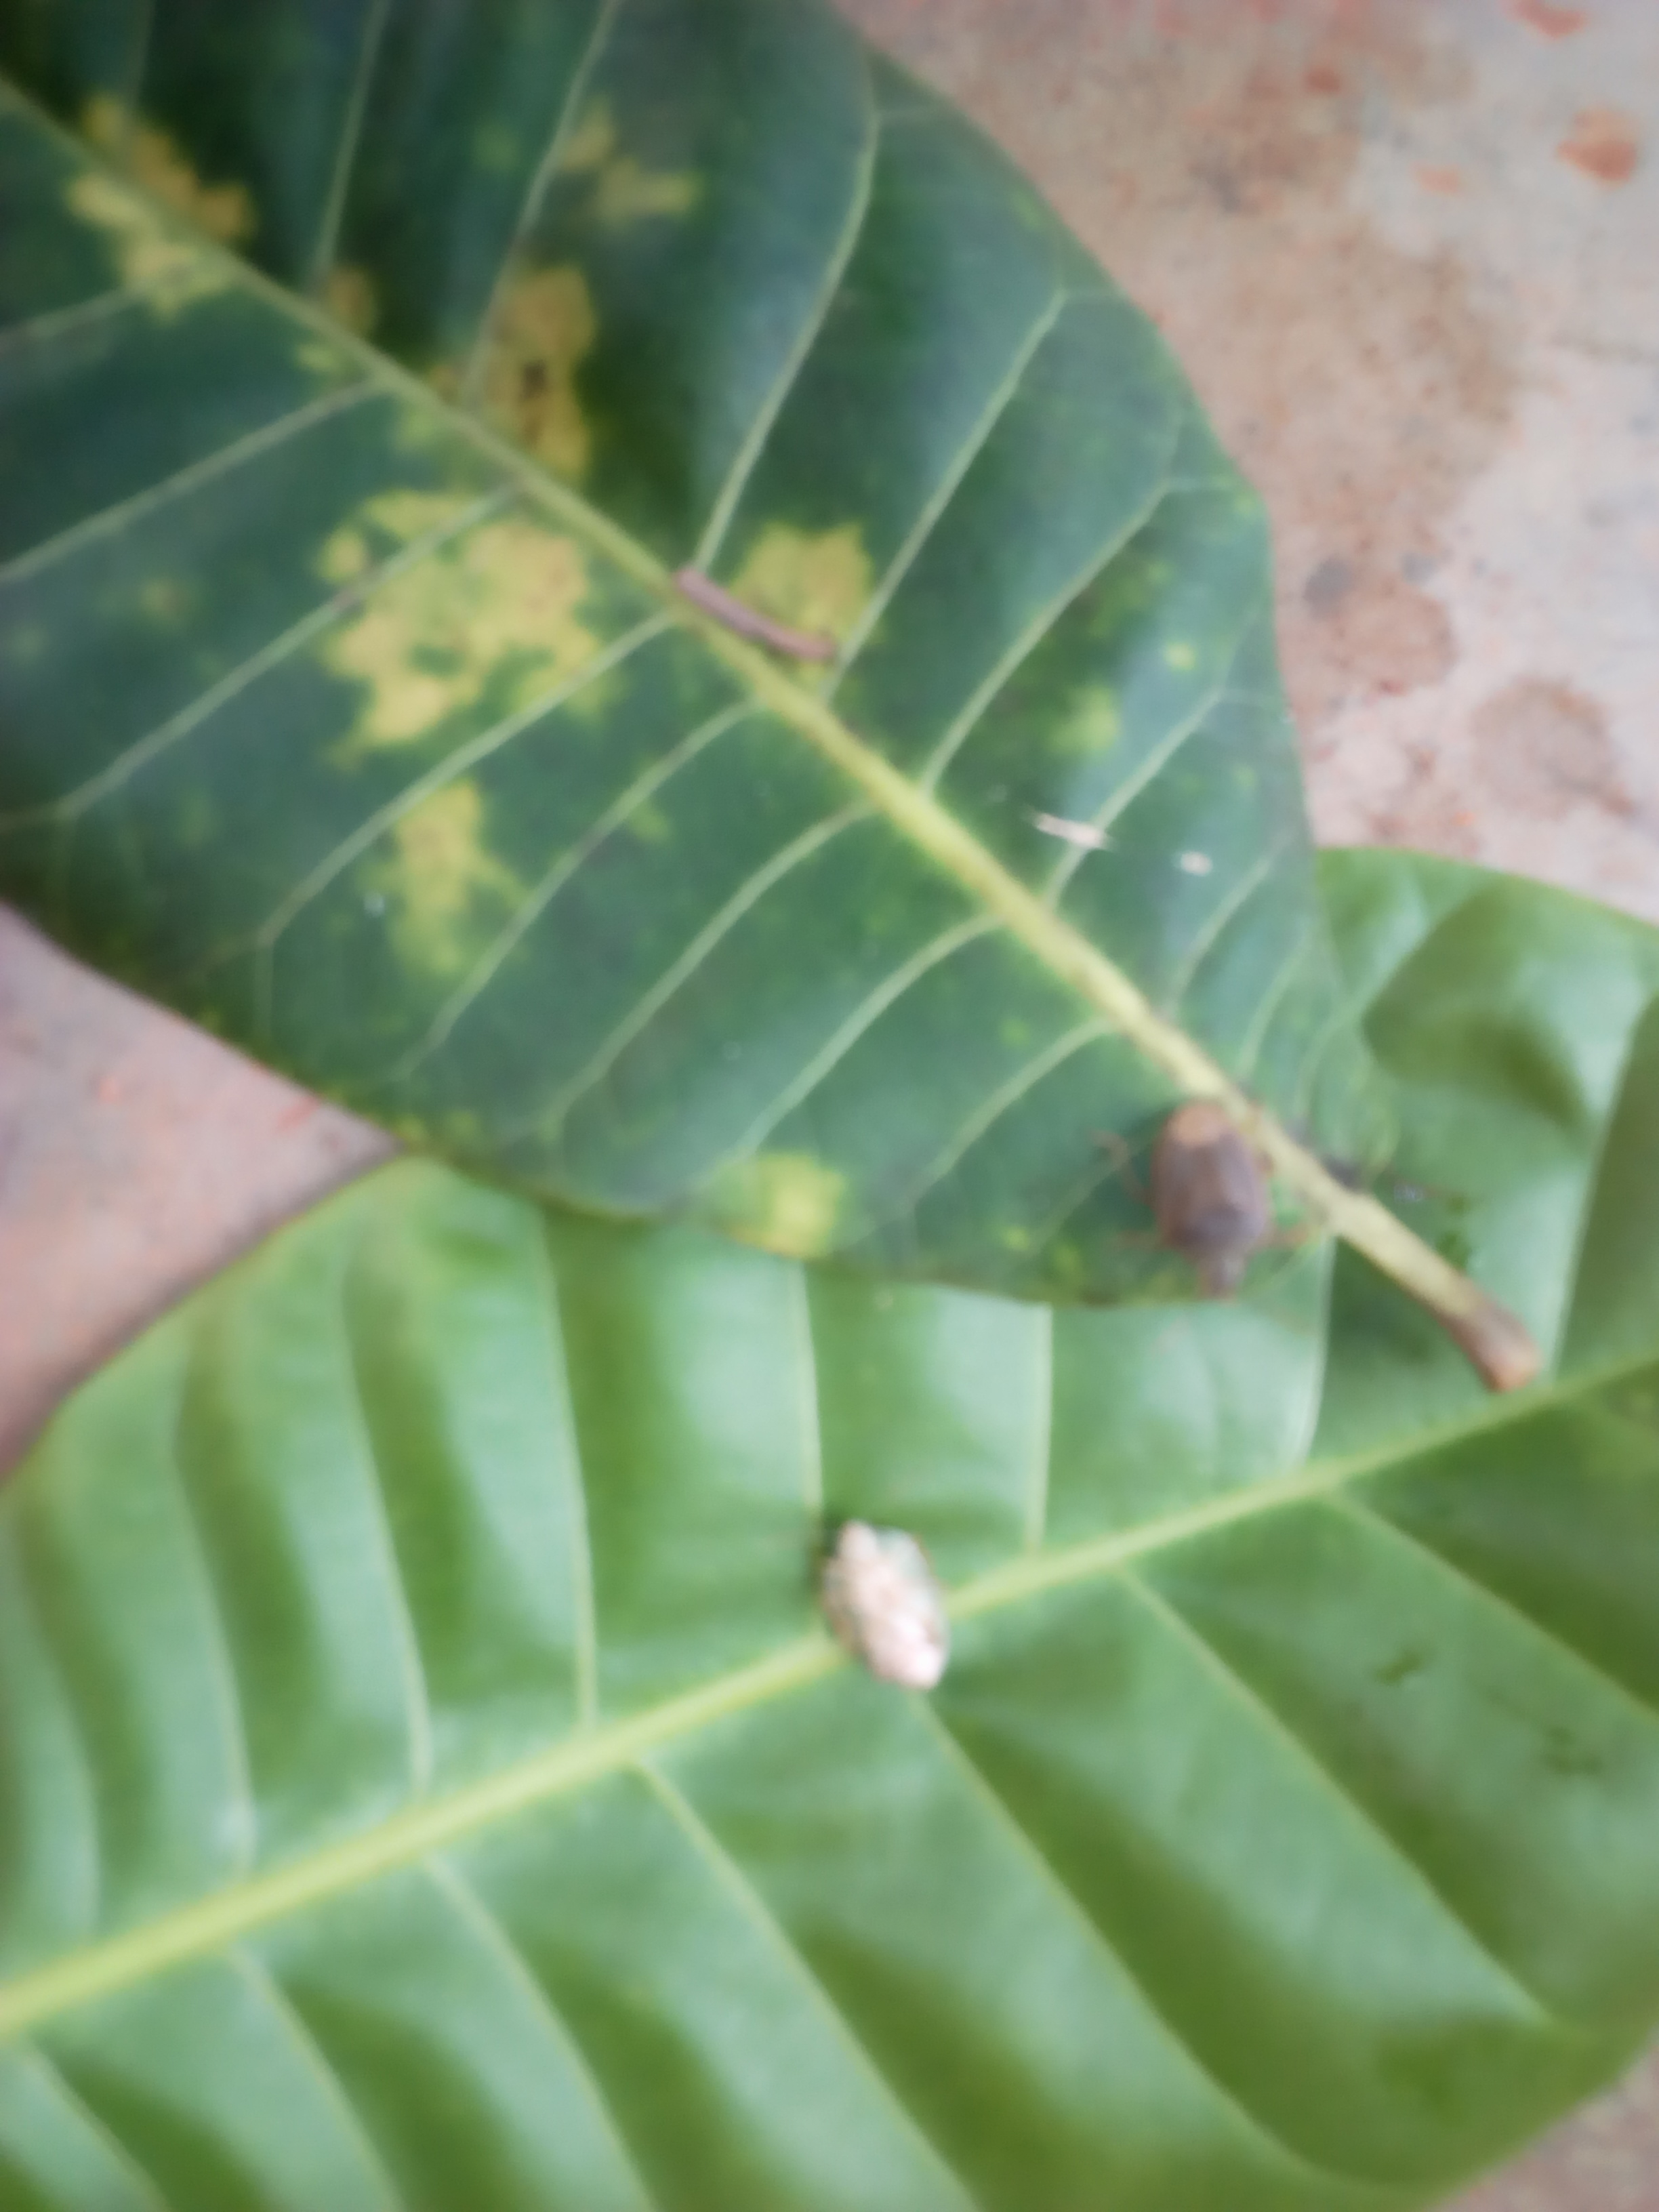Alternariose: (12, 16, 1358, 1313)
